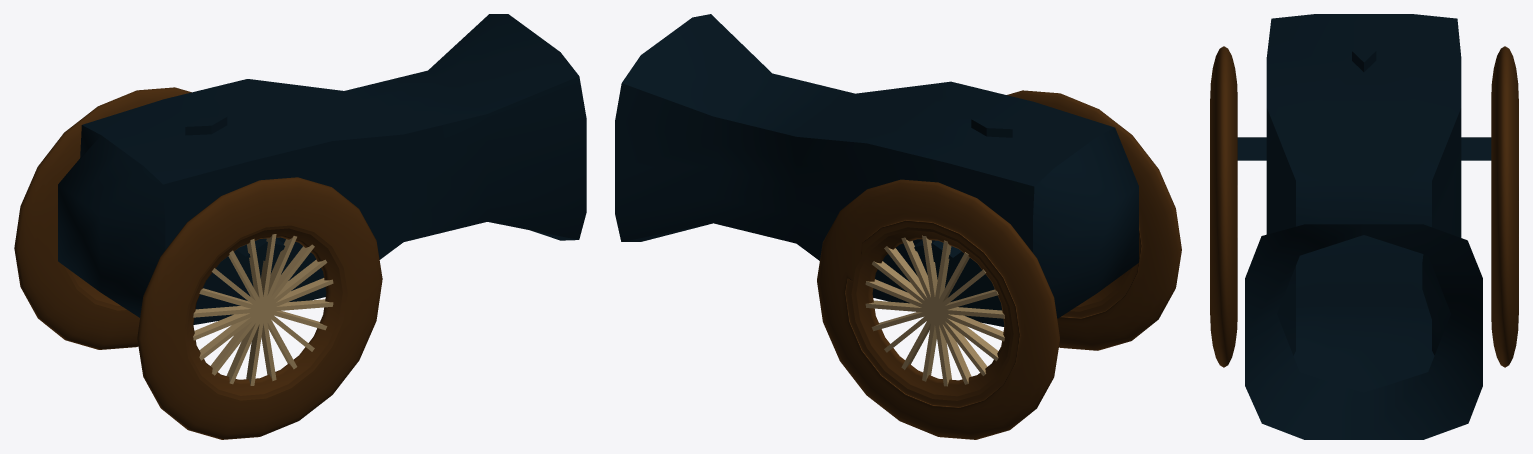
The model's file is cannonWColor.gltf.
The picture shows the model from 3 angles, left to right: view 1: azimuth 30°, elevation 25°; view 2: azimuth 150°, elevation 25°; view 3: azimuth 270°, elevation 25°; orthographic projection. The views are drawn at different scales.
Visible parts, largest first — view 1: cannonExp; view 2: cannonExp; view 3: cannonExp.
Boxes of the visible parts, left/top/right/bottom form: cannonExp: left=14, top=14, right=586, bottom=439; cannonExp: left=615, top=14, right=1181, bottom=439; cannonExp: left=1210, top=14, right=1518, bottom=439.
Size of the model in its own units: 7.8 by 4.51 by 3.98.
